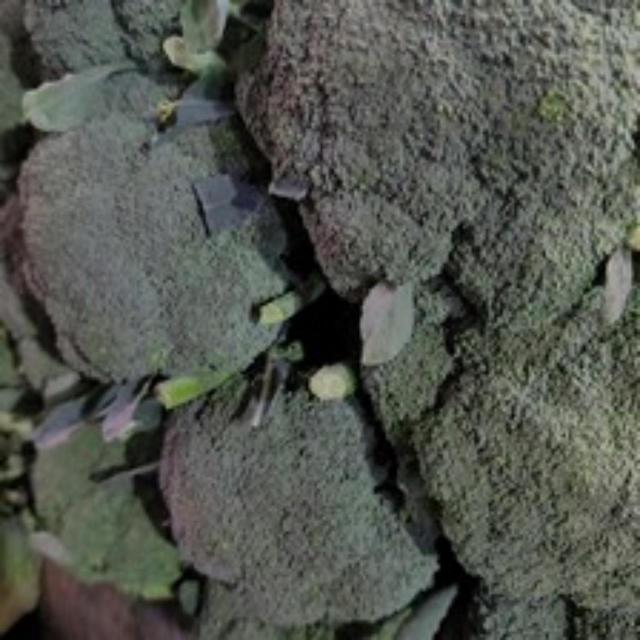broccoli: (25, 76, 309, 402)
